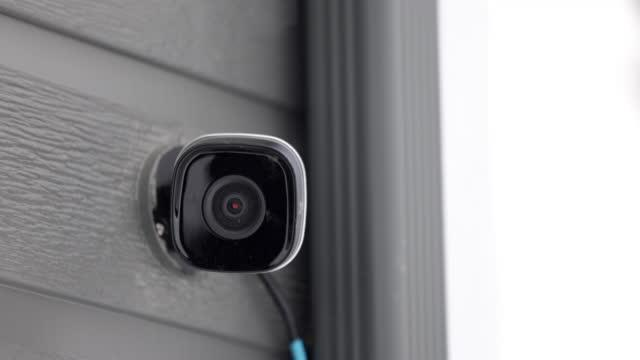Security camera: (153, 131, 308, 275)
